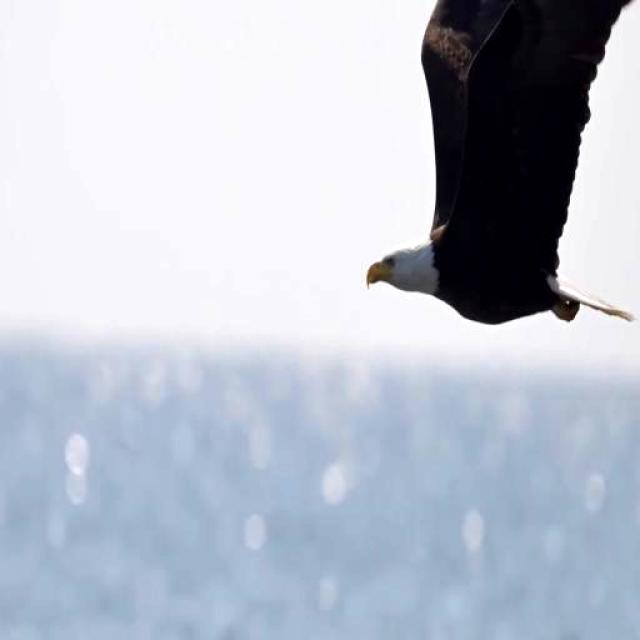airplane: (350, 0, 640, 368)
